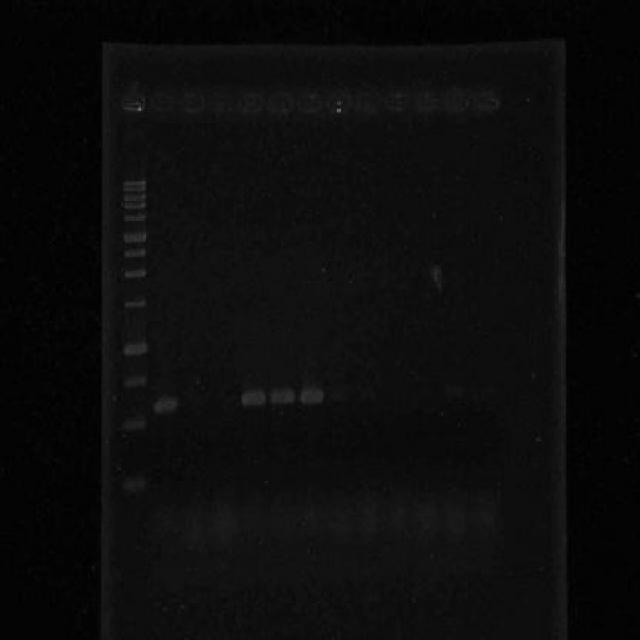B: (238, 384, 268, 410), (298, 382, 326, 407), (268, 382, 296, 407), (151, 394, 180, 417)
L: (116, 73, 507, 124)
M: (116, 168, 155, 500)
P: (118, 470, 151, 495), (120, 412, 148, 434), (122, 372, 148, 390), (124, 340, 148, 358), (124, 266, 148, 280), (124, 229, 148, 243), (124, 298, 148, 310), (124, 247, 147, 258), (123, 212, 146, 222), (122, 201, 147, 210), (122, 192, 147, 200), (122, 178, 147, 185), (122, 186, 147, 192)
Pc: (409, 84, 442, 118), (206, 80, 234, 118), (294, 85, 324, 118), (472, 83, 502, 114), (442, 83, 472, 114), (237, 84, 266, 116), (178, 85, 206, 118), (265, 85, 293, 118), (324, 86, 352, 119), (380, 85, 408, 118), (121, 84, 147, 118), (352, 86, 377, 119), (150, 87, 176, 116)
